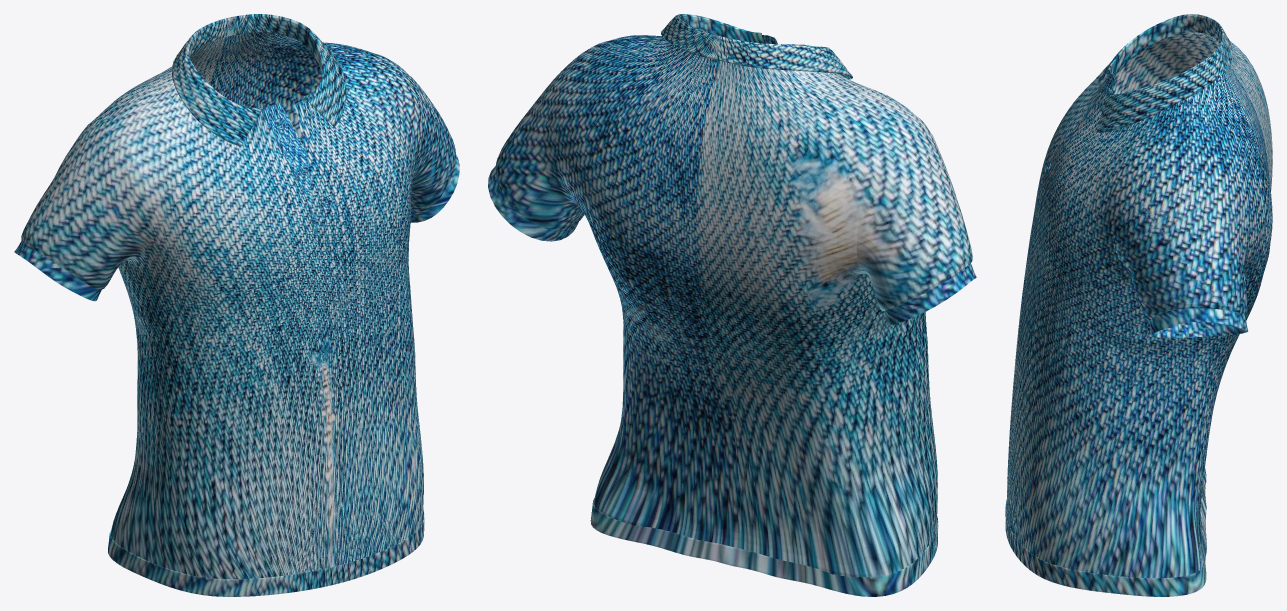
3 views of the same model, side by side, from view 1: azimuth 30°, elevation 25°; view 2: azimuth 150°, elevation 25°; view 3: azimuth 270°, elevation 25° (orthographic). The views are drawn at different scales.
Visible parts, largest first — view 1: polotshit; view 2: polotshit; view 3: polotshit.
Part boxes in pixels (x1,y1,x2,y2): polotshit: [14, 14, 459, 596]; polotshit: [488, 14, 976, 596]; polotshit: [1005, 14, 1272, 596].
Bounding box in the file's own units: 58.22 × 62.88 × 30.91.
